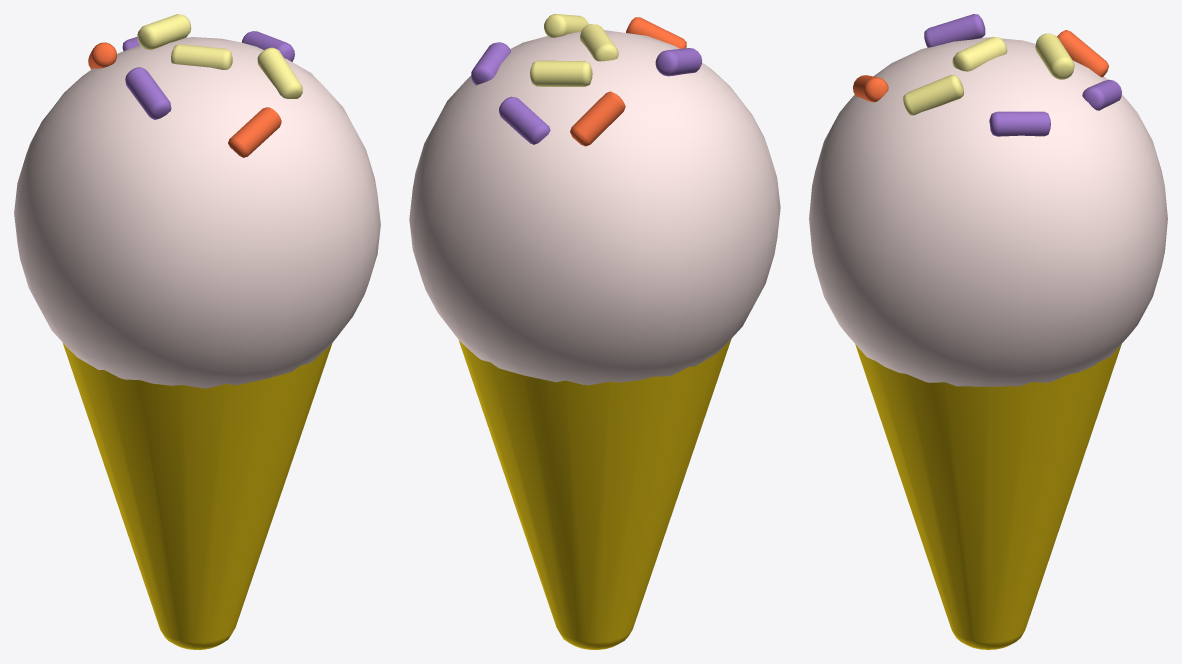
File: City_19_Ice_Cream_1.glb
3 views of the same model, side by side, from view 1: azimuth 30°, elevation 25°; view 2: azimuth 150°, elevation 25°; view 3: azimuth 270°, elevation 25° (orthographic).
Parts seen in each view (by area): view 1: City_19_Ice_Cream_1; view 2: City_19_Ice_Cream_1; view 3: City_19_Ice_Cream_1.
Part boxes in pixels (x1,y1,x2,y2): City_19_Ice_Cream_1: [14, 14, 380, 649]; City_19_Ice_Cream_1: [409, 14, 780, 649]; City_19_Ice_Cream_1: [809, 14, 1167, 649].
Bounding box in the file's own units: 0.1966 × 0.3612 × 0.1966.
1 material, 1 textured.
